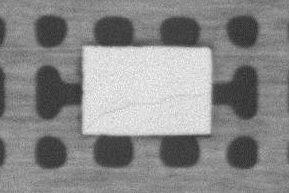DIE_CRACK: (86, 92, 205, 130)
